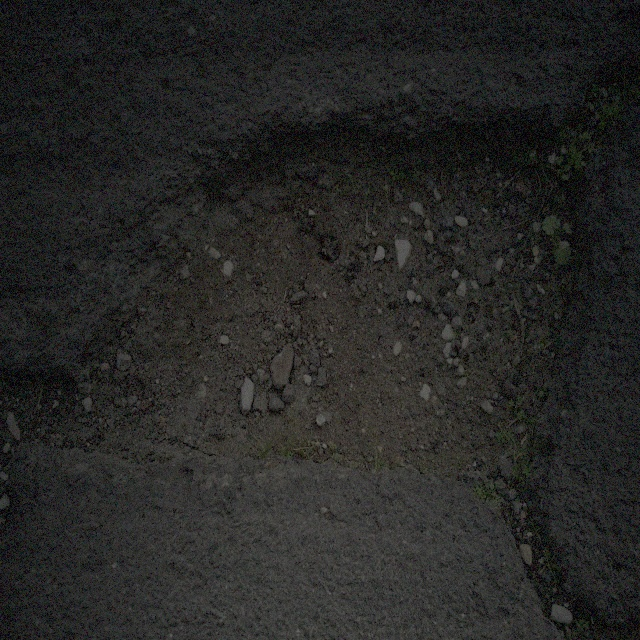pothole: (90, 87, 604, 528)
